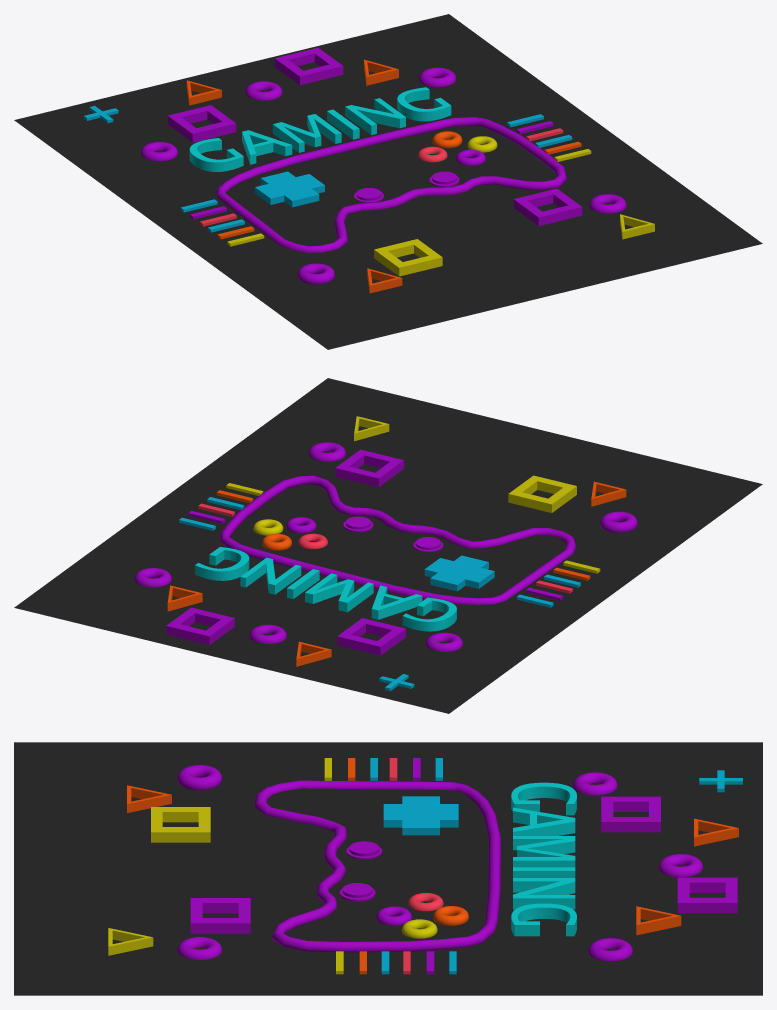
3 renders of one model, top to bottom at view 1: azimuth 30°, elevation 25°; view 2: azimuth 150°, elevation 25°; view 3: azimuth 270°, elevation 25°, orthographic. The views are drawn at different scales.
Visible parts, largest first — view 1: poster_1_backing, Controller, GAMING_Text, dpad, Vierkantjes, Vierkantje_1, pCube126, Vierkantje_2, Driehoek (×2), Rondje_5, Rondje_2, Rondje_4 (+4 smaller); view 2: poster_1_backing, Controller, GAMING_Text, dpad, Vierkantje_1, Vierkantje_2, Vierkantjes, pCube126, Driehoek (×2), Rondje_5, Rondje_4, Rondje (+4 smaller); view 3: poster_1_backing, Controller, GAMING_Text, dpad, pCube126, Vierkantjes, Vierkantje_1, Vierkantje_2, Driehoek (×2), Rondje_5, Driehoek_1, Driehoek_2 (+8 smaller).
Part boxes in pixels (x1=…): poster_1_backing: x1=14, y1=14, x2=762, y2=349; Controller: x1=216, y1=117, x2=566, y2=252; GAMING_Text: x1=189, y1=87, x2=451, y2=171; dpad: x1=255, y1=171, x2=324, y2=207; Vierkantjes: x1=513, y1=188, x2=582, y2=225; Vierkantje_1: x1=167, y1=105, x2=236, y2=142; pCube126: x1=274, y1=47, x2=343, y2=85; Vierkantje_2: x1=374, y1=239, x2=442, y2=276; Driehoek (×2): x1=364, y1=59, x2=402, y2=293; Rondje_5: x1=297, y1=263, x2=334, y2=284; Rondje_2: x1=245, y1=81, x2=282, y2=100; Rondje_4: x1=589, y1=194, x2=626, y2=213; poster_1_backing: x1=14, y1=378, x2=762, y2=713; Controller: x1=220, y1=475, x2=575, y2=604; GAMING_Text: x1=195, y1=547, x2=456, y2=631; dpad: x1=424, y1=555, x2=494, y2=591; Vierkantje_1: x1=337, y1=618, x2=405, y2=655; Vierkantje_2: x1=508, y1=475, x2=576, y2=512; Vierkantjes: x1=335, y1=449, x2=403, y2=487; pCube126: x1=166, y1=607, x2=234, y2=644; Driehoek (×2): x1=167, y1=481, x2=626, y2=611; Rondje_5: x1=600, y1=511, x2=637, y2=532; Rondje_4: x1=308, y1=442, x2=345, y2=461; Rondje: x1=134, y1=568, x2=171, y2=587; poster_1_backing: x1=14, y1=742, x2=762, y2=995; Controller: x1=255, y1=780, x2=500, y2=952; GAMING_Text: x1=511, y1=782, x2=576, y2=936; dpad: x1=383, y1=796, x2=458, y2=835; pCube126: x1=677, y1=877, x2=737, y2=913; Vierkantjes: x1=190, y1=898, x2=250, y2=933; Vierkantje_1: x1=601, y1=796, x2=660, y2=832; Vierkantje_2: x1=151, y1=807, x2=210, y2=842; Driehoek (×2): x1=127, y1=785, x2=681, y2=935; Rondje_5: x1=177, y1=765, x2=222, y2=790; Driehoek_1: x1=108, y1=928, x2=153, y2=955; Driehoek_2: x1=694, y1=818, x2=738, y2=846.
Size of the model in its own units: 4 by 0.1525 by 5.
1 material, 1 textured.
